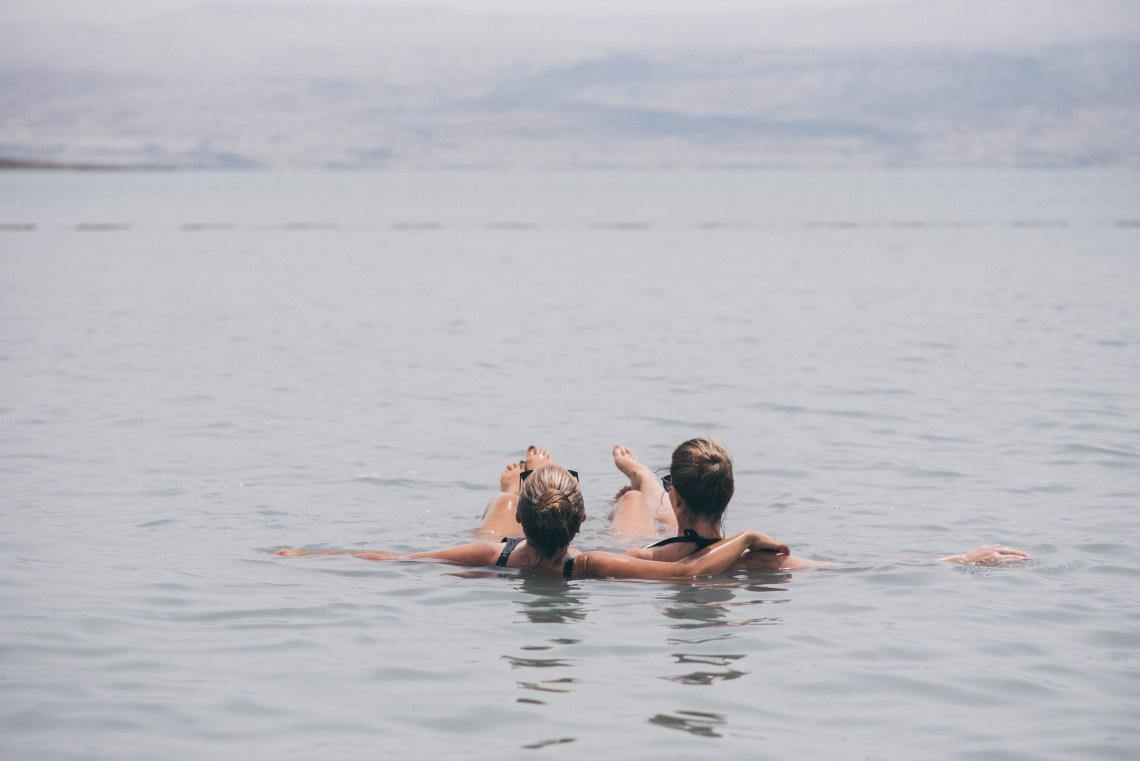human: (609, 444, 804, 573), (448, 442, 610, 578)
